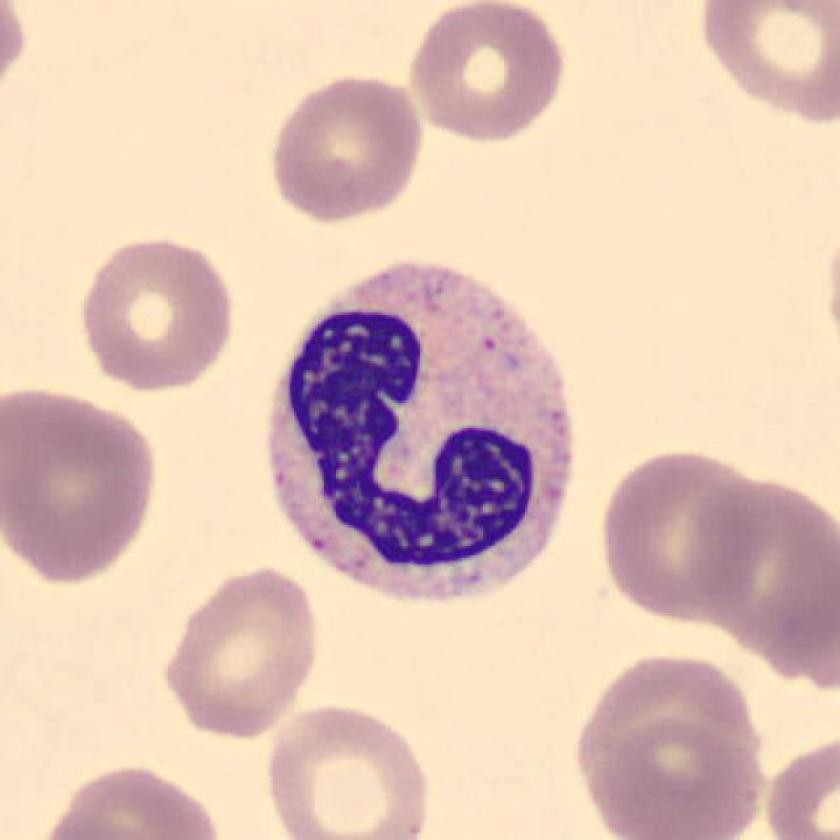neutrophil: (270, 265, 576, 602)
